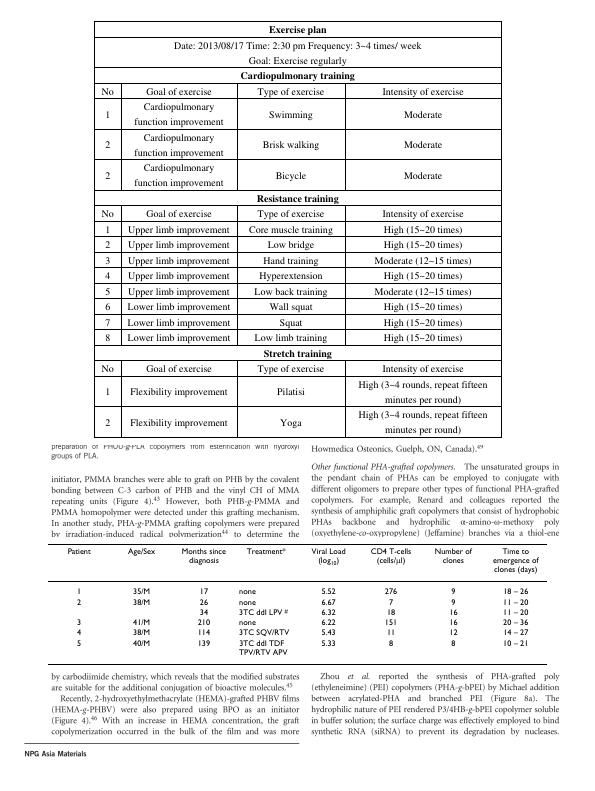bordered: (93, 19, 501, 437)
borderless: (47, 542, 547, 664)
cell: (172, 39, 422, 67), (357, 408, 488, 437), (357, 378, 488, 406), (133, 100, 224, 129), (133, 131, 224, 159), (133, 162, 224, 190), (239, 69, 355, 83), (126, 300, 231, 314), (126, 238, 230, 252), (491, 546, 539, 575), (126, 316, 231, 329), (126, 332, 231, 345), (126, 223, 230, 236), (126, 254, 230, 267), (126, 270, 230, 283), (126, 285, 230, 298), (373, 254, 472, 267), (373, 285, 472, 298), (129, 386, 228, 399), (129, 416, 228, 429), (381, 207, 464, 221), (382, 238, 463, 252), (382, 300, 463, 314), (247, 223, 333, 236), (255, 192, 339, 205), (381, 85, 464, 98), (381, 363, 464, 376), (382, 223, 463, 236), (382, 270, 463, 283), (382, 316, 463, 329), (382, 332, 463, 345), (253, 285, 328, 298), (253, 332, 328, 345), (256, 207, 325, 221), (238, 638, 288, 657), (369, 545, 412, 567), (145, 207, 212, 221), (262, 347, 332, 360), (256, 85, 325, 98), (256, 363, 325, 376), (180, 546, 226, 565), (145, 85, 212, 98), (145, 363, 212, 376), (258, 270, 323, 283), (267, 23, 327, 37), (261, 138, 320, 152), (310, 546, 346, 567), (433, 546, 472, 565), (262, 254, 319, 267), (266, 238, 315, 252), (268, 300, 313, 314), (267, 108, 313, 121), (402, 138, 443, 152), (402, 108, 443, 121), (402, 169, 443, 182), (238, 628, 290, 638), (238, 607, 288, 617), (274, 169, 307, 182), (245, 546, 286, 556), (275, 386, 305, 399), (278, 316, 303, 329), (278, 416, 302, 429), (126, 546, 156, 556), (502, 587, 529, 597), (502, 597, 529, 607), (502, 618, 529, 628), (502, 628, 529, 638), (502, 638, 529, 648), (66, 546, 91, 556), (502, 608, 529, 617), (100, 207, 114, 221), (132, 587, 151, 597), (132, 597, 151, 607), (132, 618, 151, 628), (132, 628, 151, 638), (132, 638, 151, 648), (100, 85, 114, 98), (100, 363, 114, 376), (238, 587, 256, 597), (238, 597, 256, 607), (238, 618, 256, 628), (320, 587, 336, 597), (320, 597, 336, 607), (320, 618, 336, 628), (320, 628, 336, 638), (320, 638, 336, 648), (383, 587, 398, 597), (196, 618, 211, 628), (383, 618, 398, 628), (196, 628, 211, 638), (196, 638, 211, 648), (320, 608, 336, 617), (198, 587, 209, 597), (198, 597, 209, 607), (385, 628, 396, 638), (448, 618, 458, 628), (448, 628, 458, 638), (198, 608, 209, 617), (385, 608, 396, 617), (104, 138, 111, 152), (104, 238, 111, 252), (104, 300, 111, 314), (104, 108, 111, 121), (104, 169, 111, 182), (104, 223, 111, 236), (104, 254, 111, 267), (104, 270, 111, 283), (104, 285, 111, 298), (104, 316, 111, 329), (104, 332, 111, 345), (104, 386, 111, 399), (104, 416, 111, 429), (448, 608, 458, 617), (387, 597, 394, 607), (387, 638, 394, 648), (76, 587, 82, 597), (450, 587, 456, 597), (76, 597, 82, 607), (450, 597, 456, 607), (76, 618, 82, 628), (76, 628, 82, 638), (76, 638, 82, 648), (450, 638, 456, 648)
